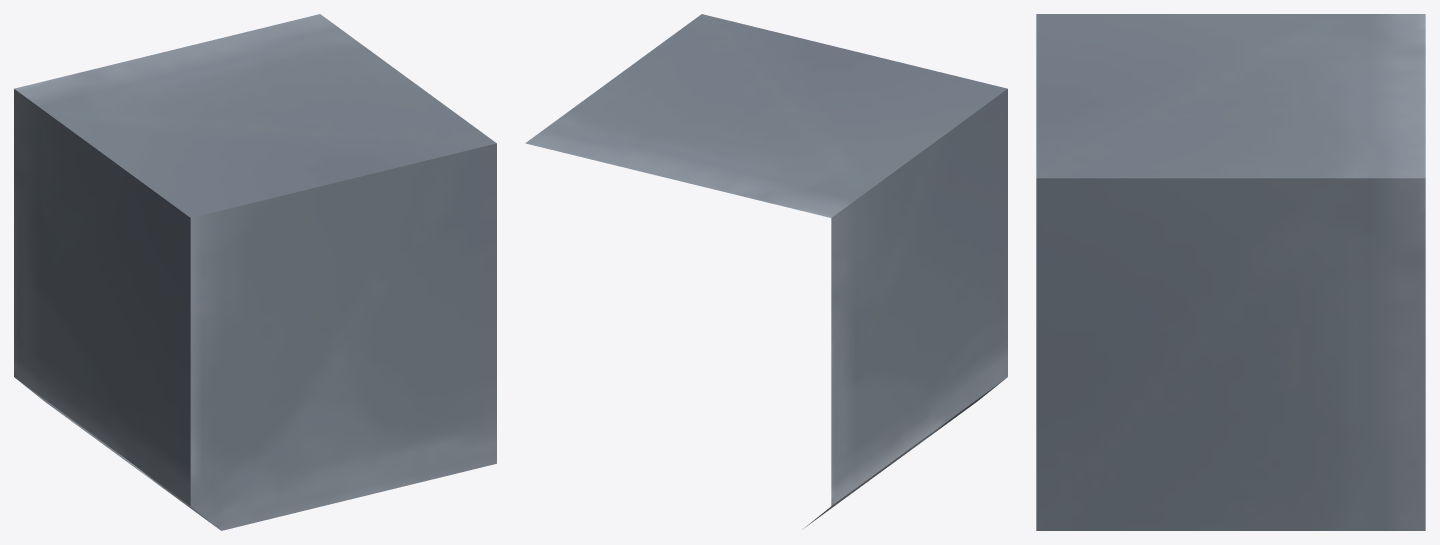
The model's file is block_fragments.glb.
The picture shows the model from 3 angles, left to right: view 1: azimuth 30°, elevation 25°; view 2: azimuth 150°, elevation 25°; view 3: azimuth 270°, elevation 25°; orthographic projection. The views are drawn at different scales.
Visible parts, largest first — view 1: fragments.block_fragments-MeshSets[fragment_bottom].Mesh[0]; view 2: fragments.block_fragments-MeshSets[fragment_bottom].Mesh[0]; view 3: fragments.block_fragments-MeshSets[fragment_bottom].Mesh[0].
Boxes of the visible parts, bbox=[...] form: fragments.block_fragments-MeshSets[fragment_bottom].Mesh[0]: bbox=[14, 14, 496, 530]; fragments.block_fragments-MeshSets[fragment_bottom].Mesh[0]: bbox=[525, 14, 1007, 529]; fragments.block_fragments-MeshSets[fragment_bottom].Mesh[0]: bbox=[1036, 14, 1425, 530].
Size of the model in its own units: 0.5 by 0.5 by 0.5.
Materials: 1 (1 with a texture image).
